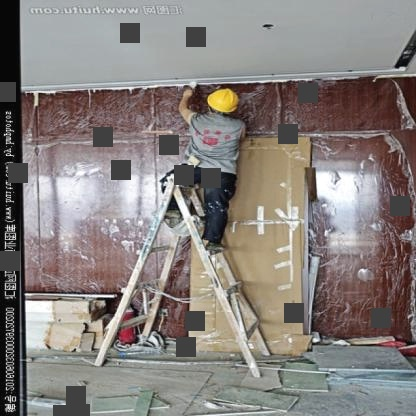yellow: (202, 86, 248, 115)
